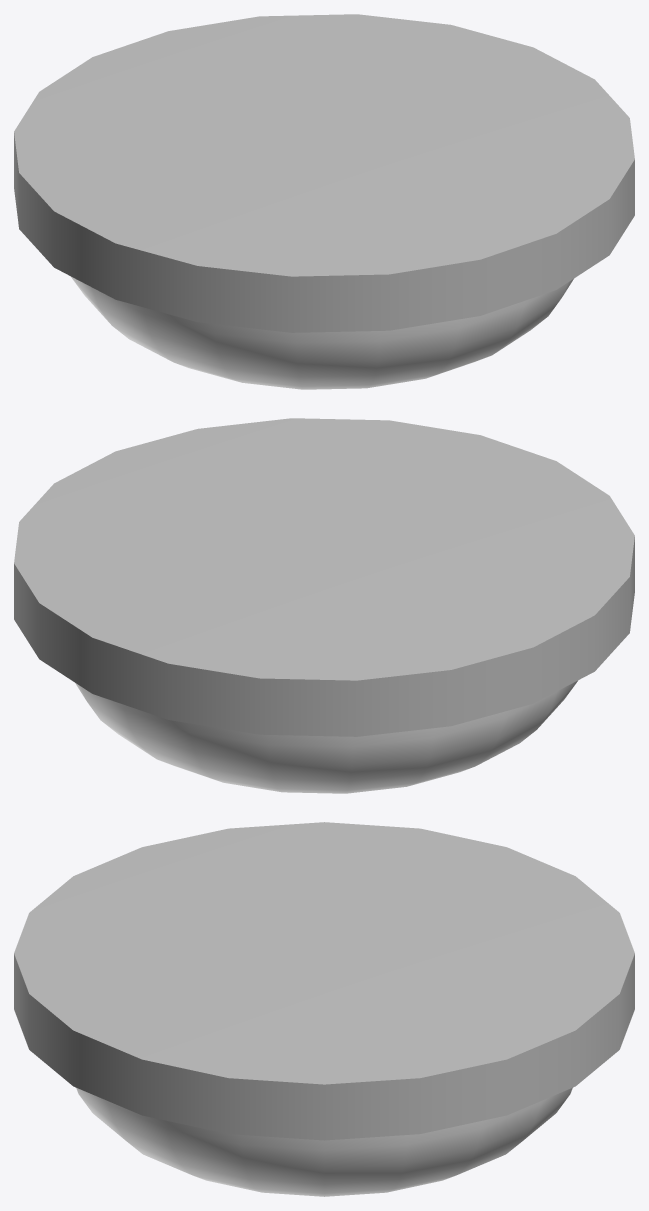
File: Casino_Lights_low Textured.fbx
The picture shows the model from 3 angles, top to bottom: view 1: azimuth 30°, elevation 25°; view 2: azimuth 150°, elevation 25°; view 3: azimuth 270°, elevation 25°; orthographic projection.
Parts seen in each view (by area): view 1: Light_low; view 2: Light_low; view 3: Light_low.
Part boxes in pixels (box(x1,y1,x2,y2)): Light_low: box(14, 14, 634, 389); Light_low: box(14, 418, 634, 793); Light_low: box(14, 822, 634, 1196).
Bounding box in the file's own units: 1.78 × 0.5467 × 1.78.
